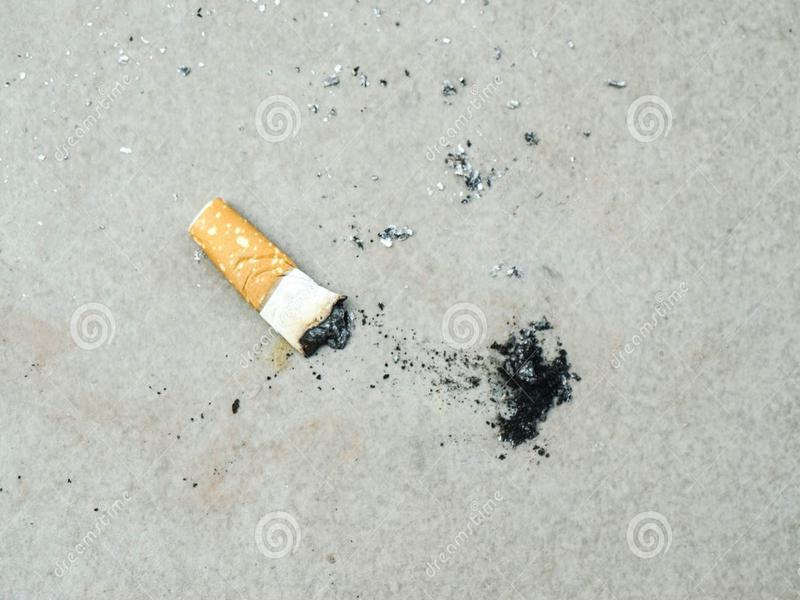burned_cigarette: (174, 192, 381, 374)
